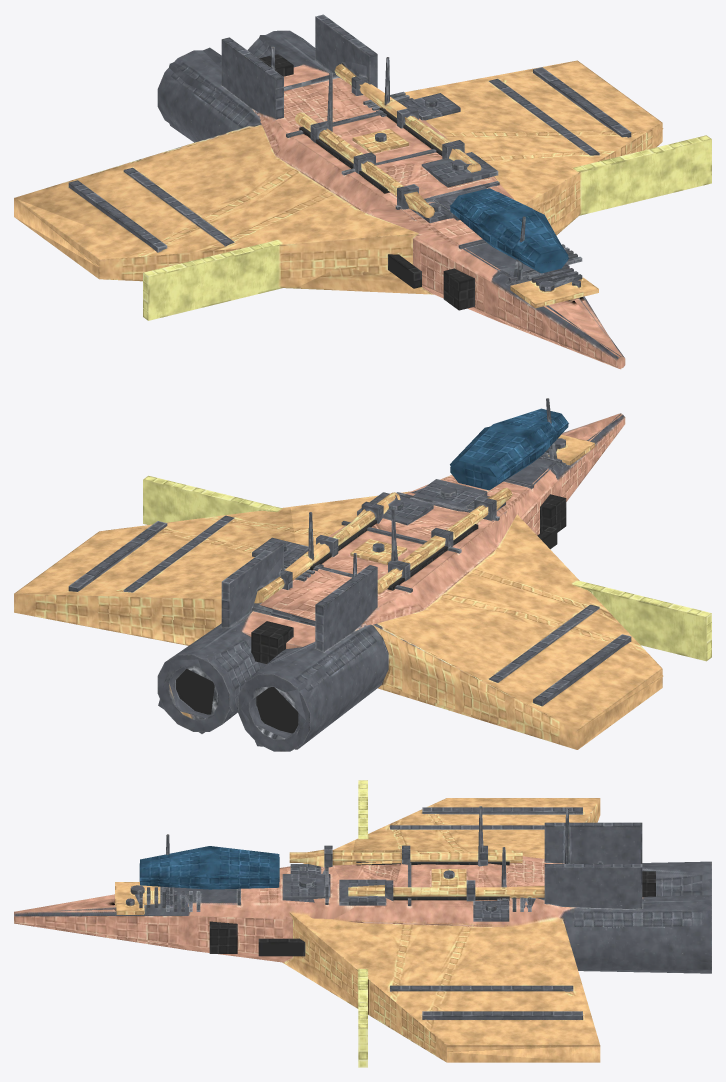
Rendered from sd_npc_raider.glb.
3 renders of one model, top to bottom at view 1: azimuth 30°, elevation 25°; view 2: azimuth 150°, elevation 25°; view 3: azimuth 270°, elevation 25°, orthographic. The views are drawn at different scales.
Parts seen in each view (by area): view 1: LOD0_body, LOD1_body; view 2: LOD0_body, LOD1_body; view 3: LOD0_body, LOD1_body.
Boxes of the visible parts, x1,y1,x2,y2 form: LOD0_body: (15,14,711,368); LOD1_body: (14,35,663,369); LOD0_body: (14,398,711,751); LOD1_body: (14,413,663,749); LOD0_body: (14,780,711,1067); LOD1_body: (14,798,711,1062).
Bounding box in the file's own units: 0.844 × 0.2091 × 1.
1 material, 1 textured.
